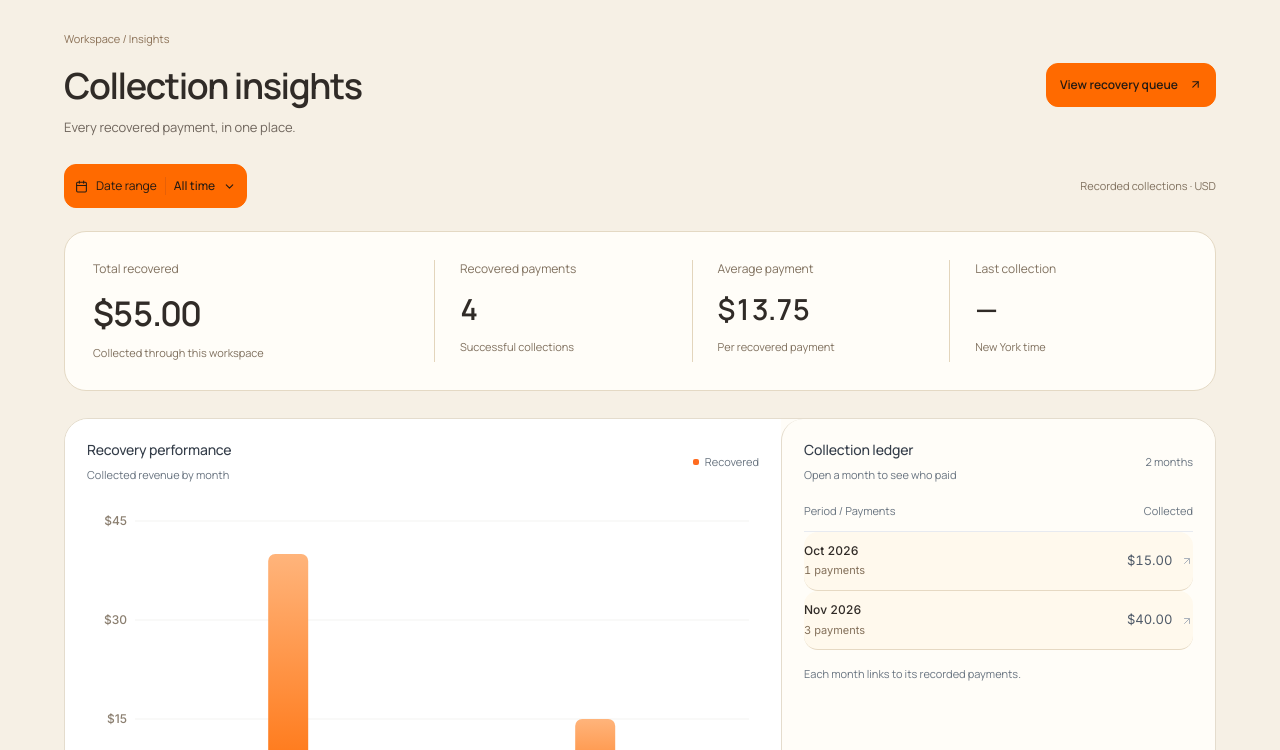
Test: a slow response from an earlier month cannot replace the newly selected month
Click the button "Nov 2026 3 payments $40.00".
click(833, 609)  # box [804, 591, 1193, 650]
(page scrolled)
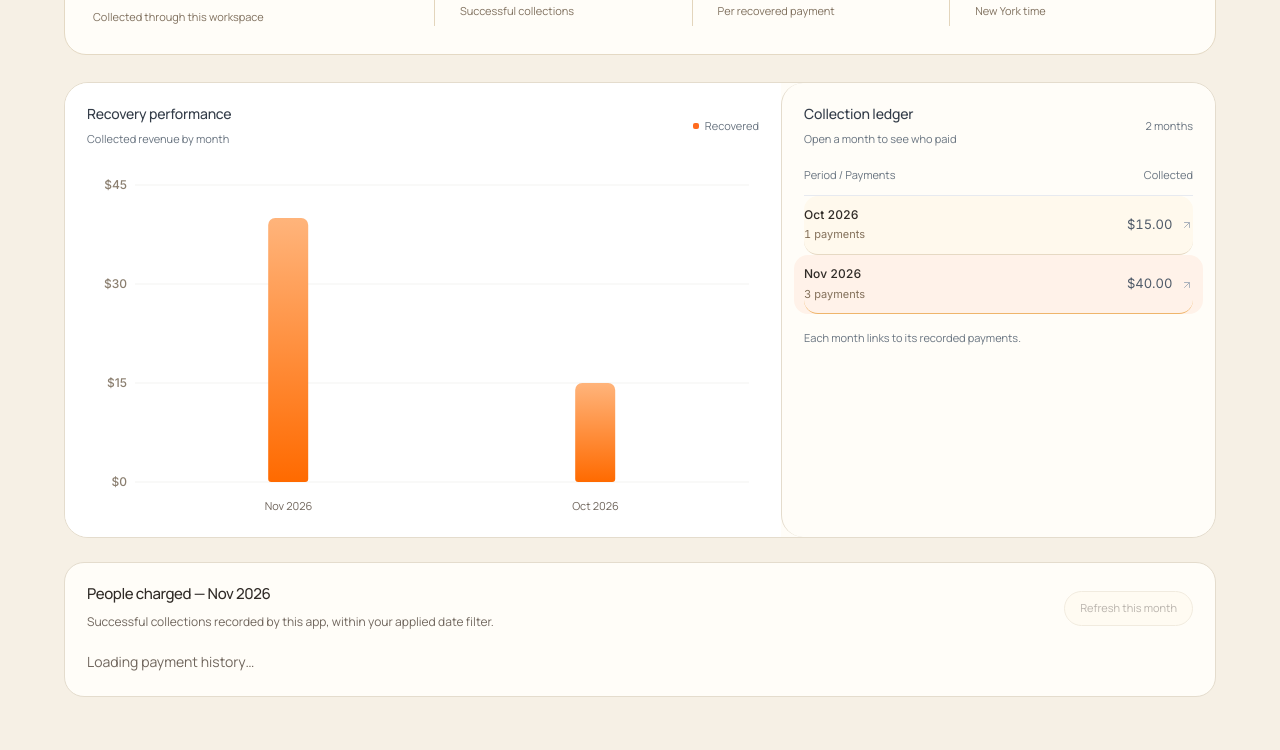
Click the button "Oct 2026 1 payments $15.00".
click(831, 214)  # box [804, 196, 1193, 255]
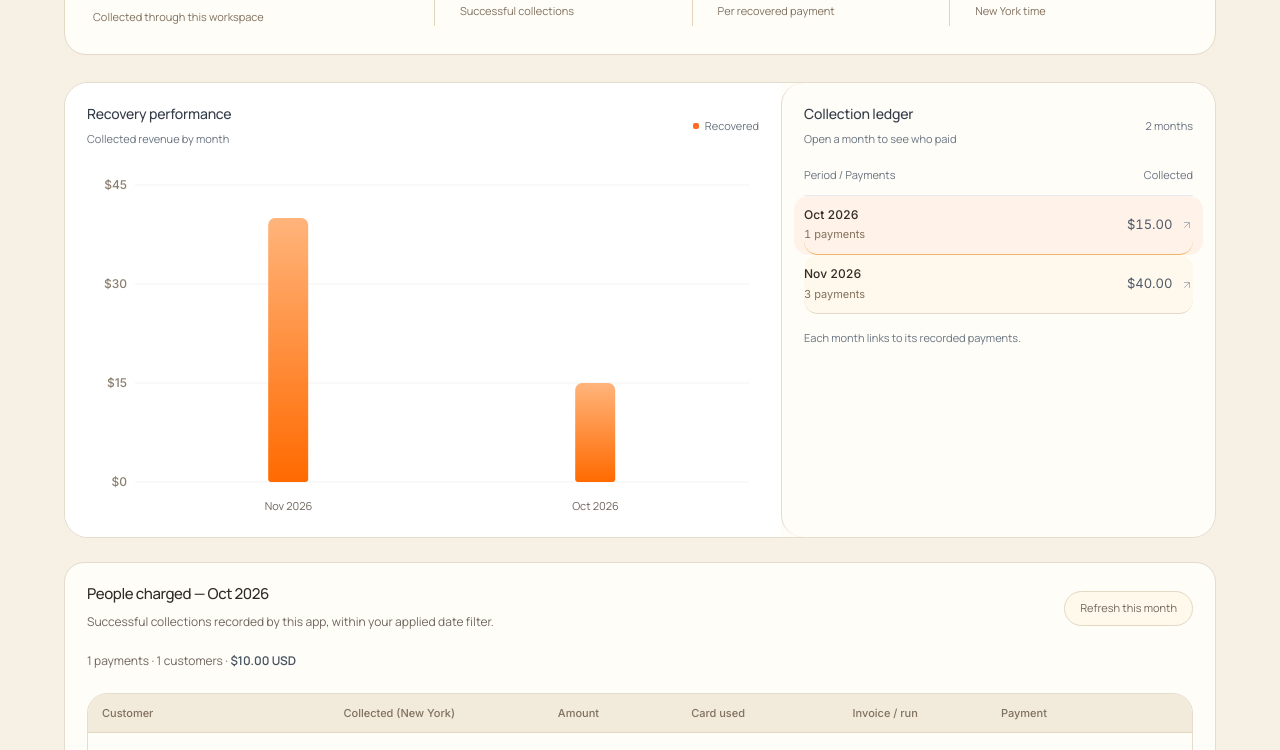
Check: the text "People charged — Oct 2026" is shown, box [87, 583, 269, 604]
